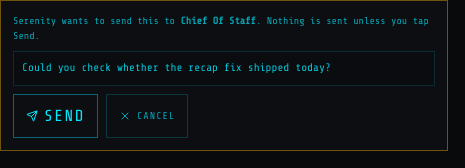
BotDraftConfirmCard › shows the exact text and sends only on Send
Expected: the text with test id "bot-draft-text" reads "Could you check whether the recap fix shipped today?", [22,61,331,74]
Click the button "Send" at (56, 116), box [13,94,98,138]
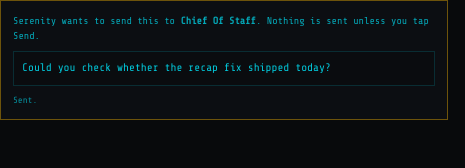
Expected: the text "Sent." is shown, [13,94,37,104]
